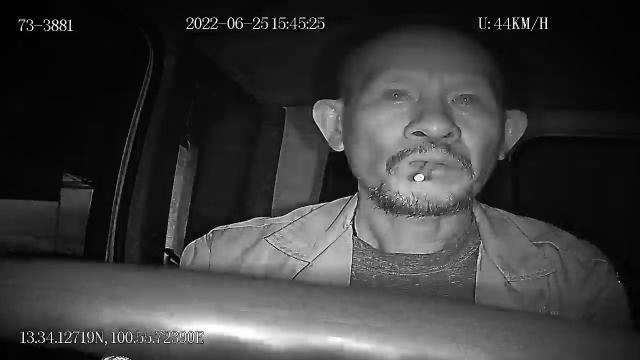SafeDriving: (374, 75, 422, 112), (440, 80, 490, 113)
Smoking: (414, 160, 438, 182)
